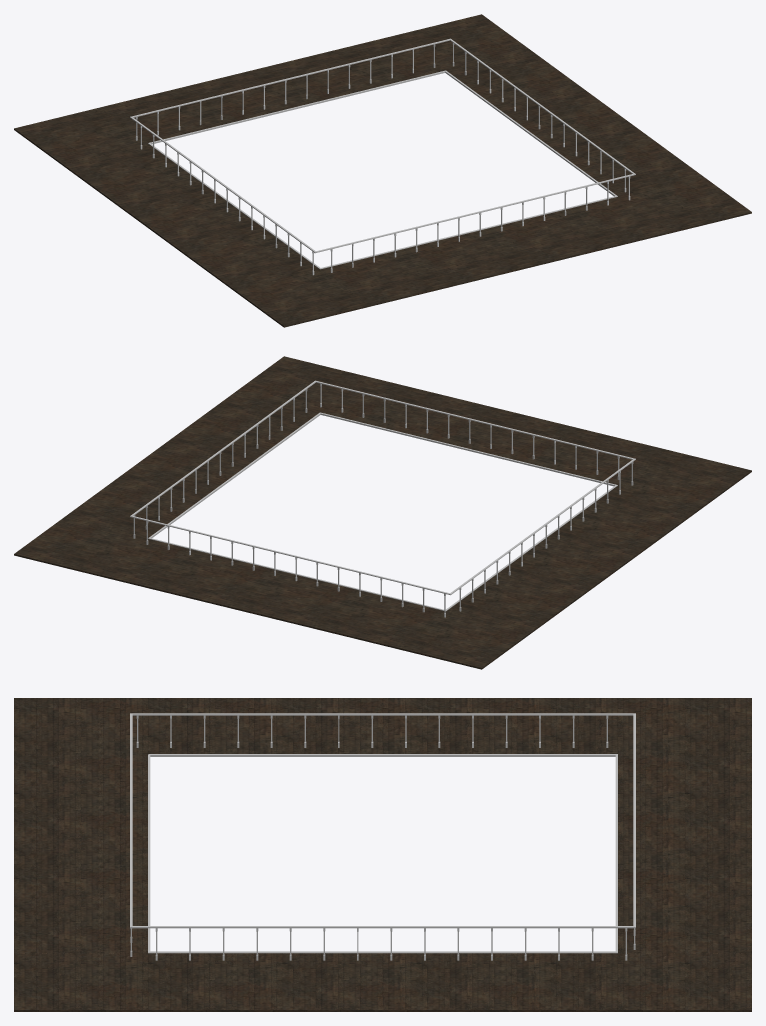
The model's file is balcony_level_22m_x_22m.fbx.
The picture shows the model from 3 angles, top to bottom: view 1: azimuth 30°, elevation 25°; view 2: azimuth 150°, elevation 25°; view 3: azimuth 270°, elevation 25°; orthographic projection. The views are drawn at different scales.
Visible parts, largest first — view 1: balcony_level_22m_x_22m; view 2: balcony_level_22m_x_22m; view 3: balcony_level_22m_x_22m.
Part boxes in pixels (x1=…): balcony_level_22m_x_22m: x1=14, y1=14, x2=751, y2=327; balcony_level_22m_x_22m: x1=14, y1=356, x2=751, y2=669; balcony_level_22m_x_22m: x1=14, y1=698, x2=751, y2=1011.
Bounding box in the file's own units: 2200 × 118 × 2200.
